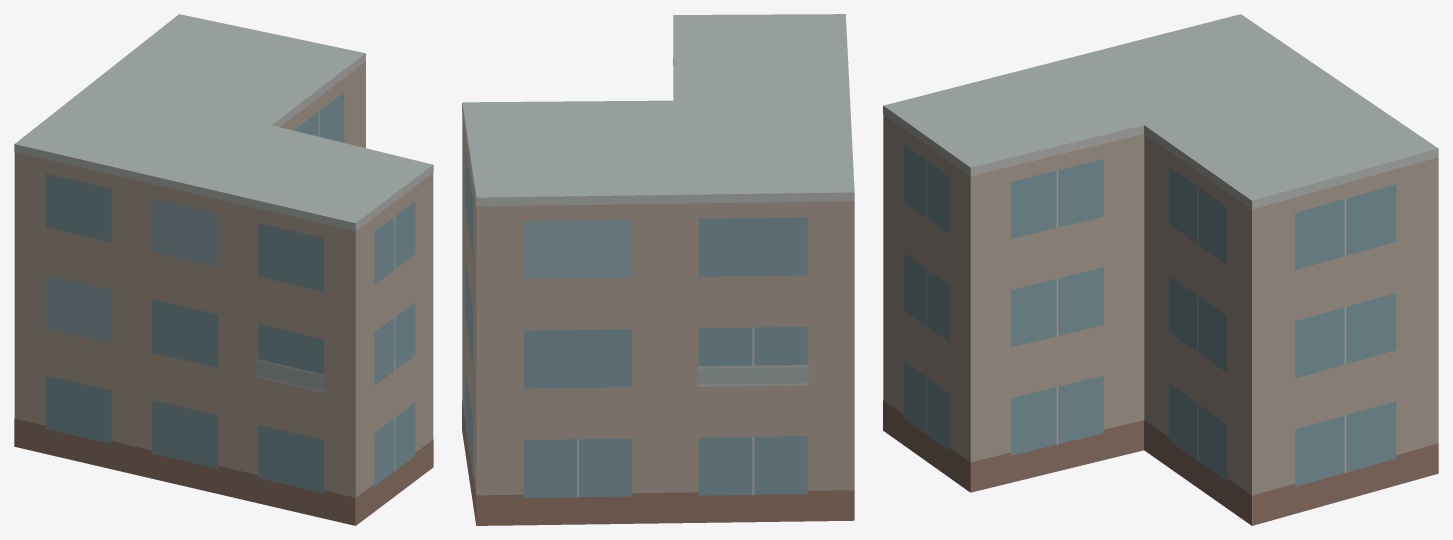
File: survey-upis-32763068.glb
3 renders of one model, left to right at view 1: azimuth 30°, elevation 25°; view 2: azimuth 150°, elevation 25°; view 3: azimuth 270°, elevation 25°, orthographic. The views are drawn at different scales.
Visible parts, largest first — view 1: survey-upis-32763068.tmp; view 2: survey-upis-32763068.tmp; view 3: survey-upis-32763068.tmp.
Boxes of the visible parts, x1,y1,x2,y2 form: survey-upis-32763068.tmp: [14, 14, 433, 525]; survey-upis-32763068.tmp: [462, 14, 854, 525]; survey-upis-32763068.tmp: [883, 14, 1438, 525].
Bounding box in the file's own units: 11.29 × 9.15 × 14.18.
